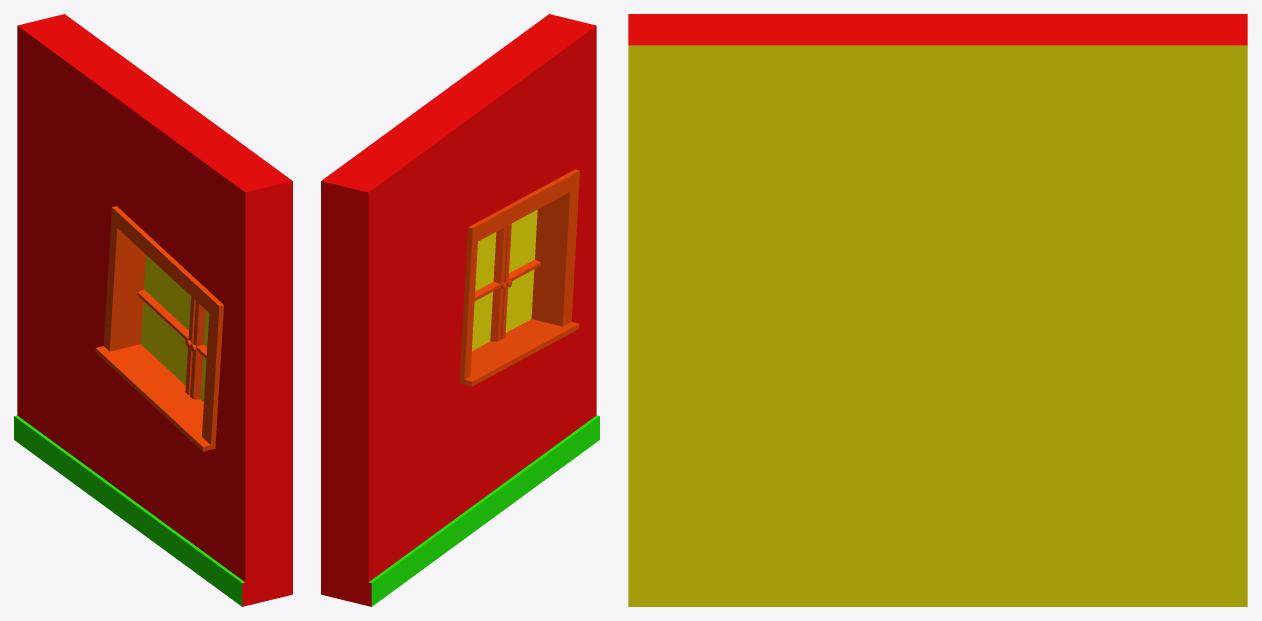
Rendered from WallWindow1.FBX.
The picture shows the model from 3 angles, left to right: view 1: azimuth 30°, elevation 25°; view 2: azimuth 150°, elevation 25°; view 3: azimuth 270°, elevation 25°; orthographic projection. The views are drawn at different scales.
Visible parts, largest first — view 1: WallWindow003; view 2: WallWindow003; view 3: WallWindow003.
Part boxes in pixels (x1,y1,x2,y2): WallWindow003: (14, 14, 292, 606); WallWindow003: (321, 14, 599, 606); WallWindow003: (628, 14, 1247, 606).
Bounding box in the file's own units: 38 × 250 × 250.
